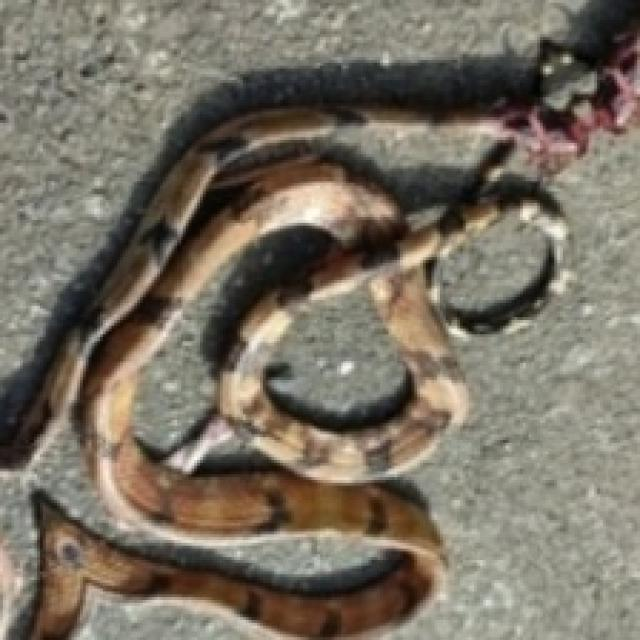dog-toothed cat snake: (0, 59, 564, 640)
